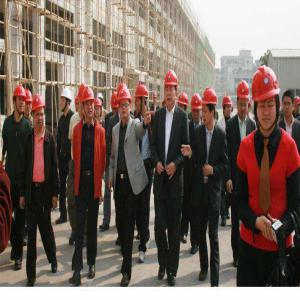none: (283, 93, 295, 119)
red: (254, 65, 281, 131), (202, 87, 217, 126), (165, 69, 179, 109), (237, 81, 251, 119), (33, 94, 47, 131), (83, 86, 96, 121), (119, 88, 132, 122), (136, 85, 149, 116), (13, 87, 26, 115), (192, 94, 202, 124), (178, 94, 190, 116), (223, 94, 233, 118), (25, 89, 33, 118), (111, 91, 120, 116), (95, 99, 103, 120), (294, 96, 300, 116), (153, 91, 158, 105)
white: (61, 90, 73, 115)
